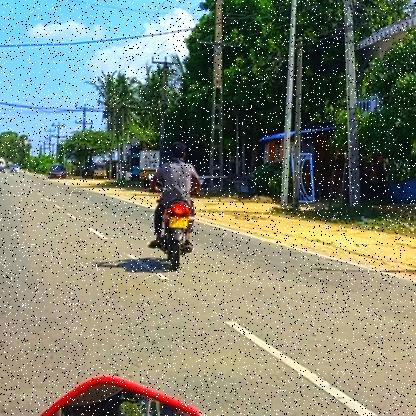motorcycle: (146, 198, 202, 277)
